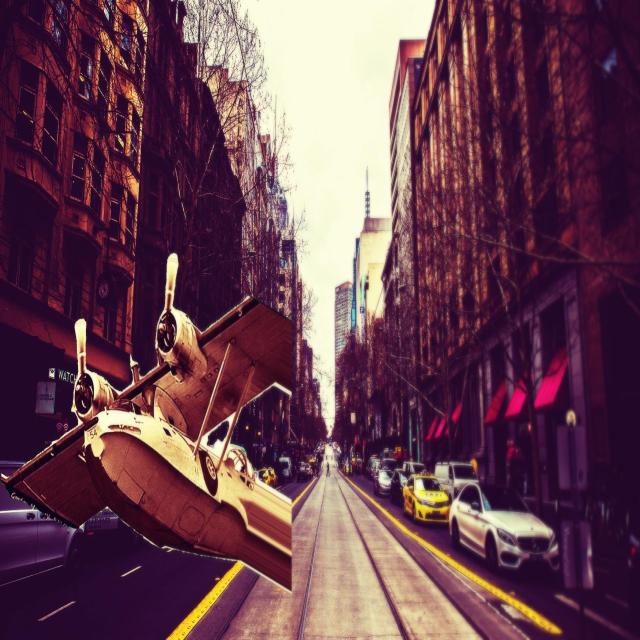airplane: (0, 251, 295, 593)
